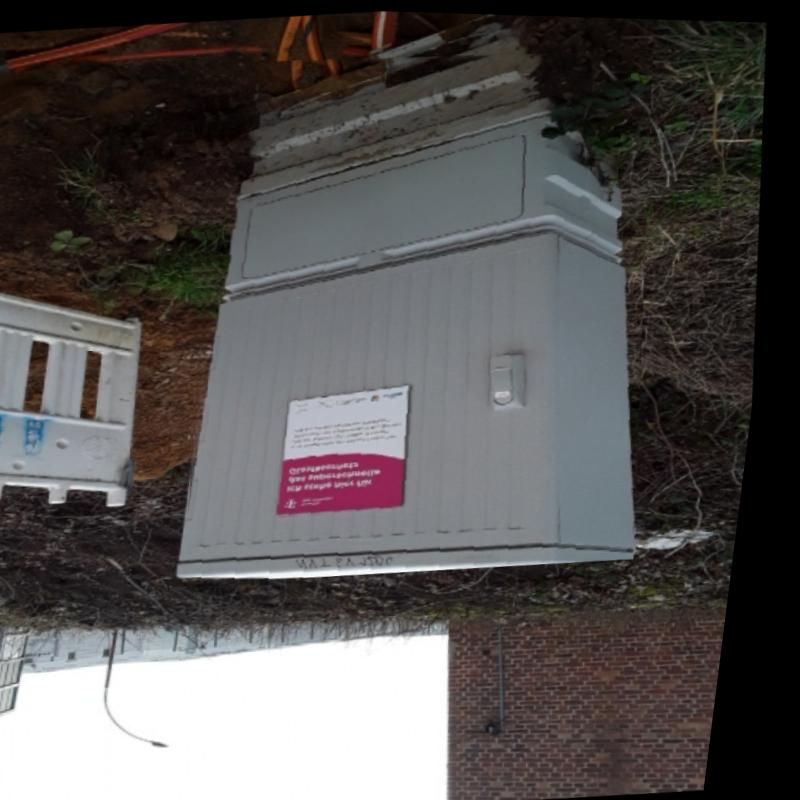NT-Gehause: (199, 48, 648, 579)
Steaker: (291, 377, 422, 514)
